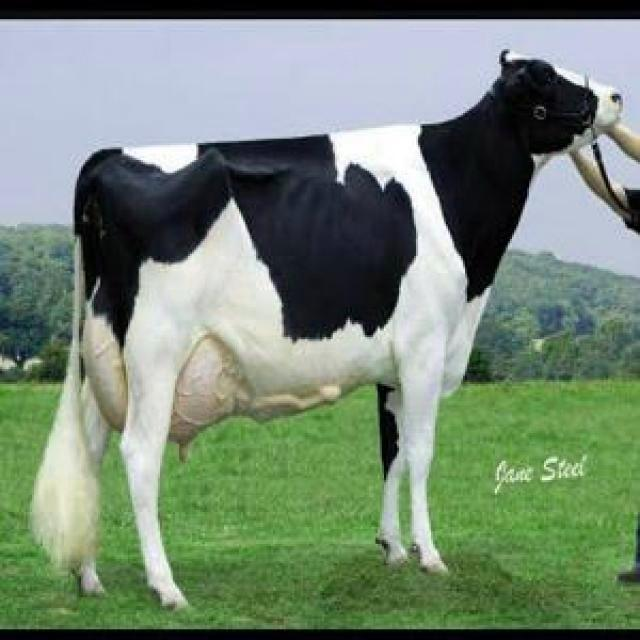cow: (32, 55, 621, 607)
